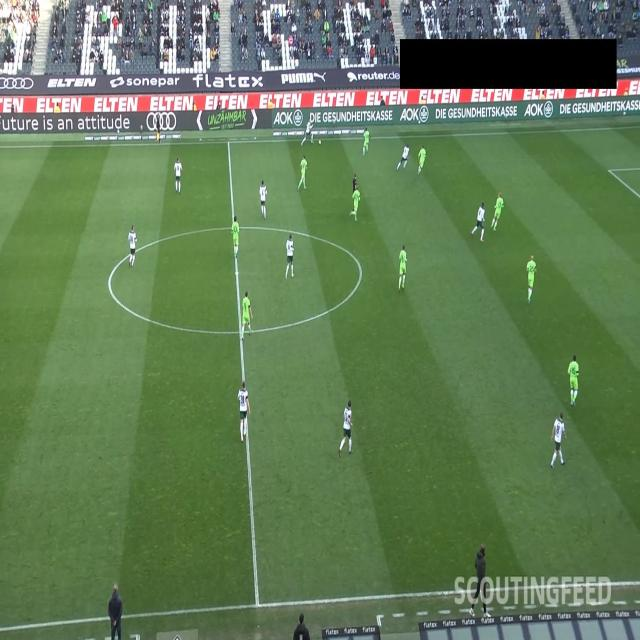ball: (318, 139, 322, 146)
